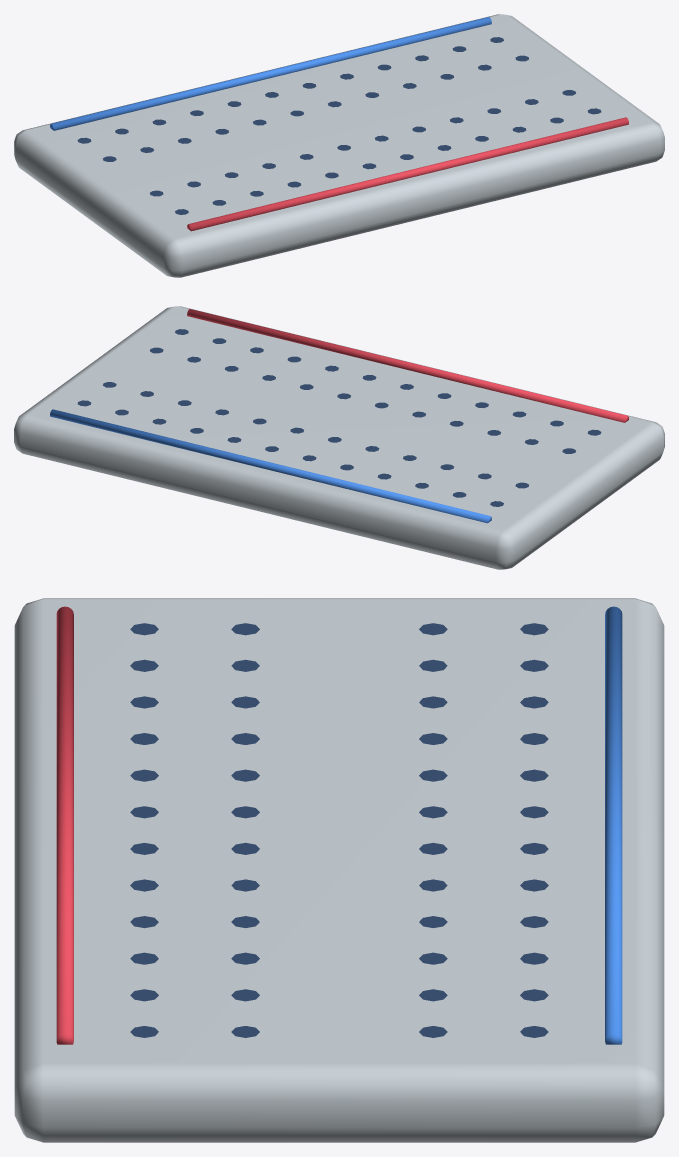
Rendered from breadboard-lite.glb.
3 views of the same model, one above another, from view 1: azimuth 30°, elevation 25°; view 2: azimuth 150°, elevation 25°; view 3: azimuth 270°, elevation 25° (orthographic). The views are drawn at different scales.
Visible parts, largest first — view 1: Breadboard; view 2: Breadboard; view 3: Breadboard.
Part boxes in pixels (x1,y1,x2,y2): Breadboard: (14,14,664,277); Breadboard: (14,306,664,569); Breadboard: (14,598,664,1142).
Bounding box in the file's own units: 1.6 × 0.137 × 0.9.
